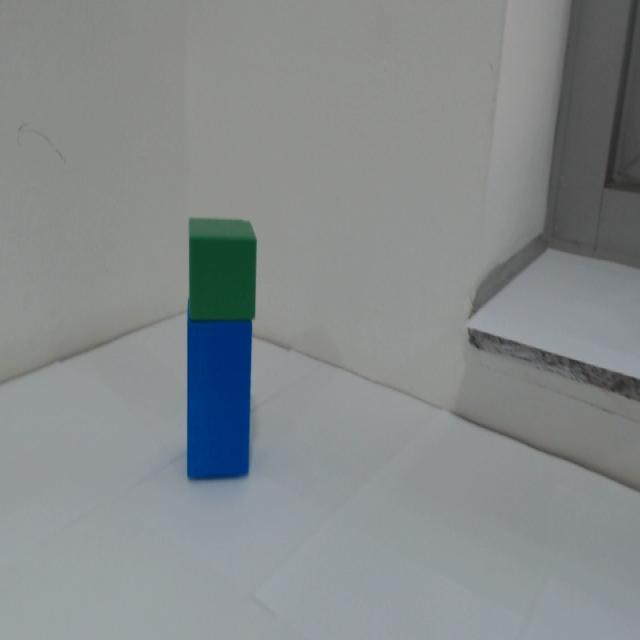cube: (183, 213, 275, 326)
